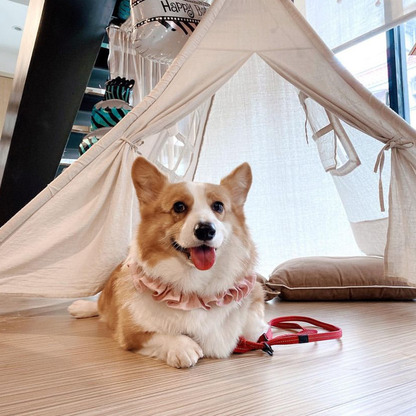Corgi: (51, 138, 295, 393)
